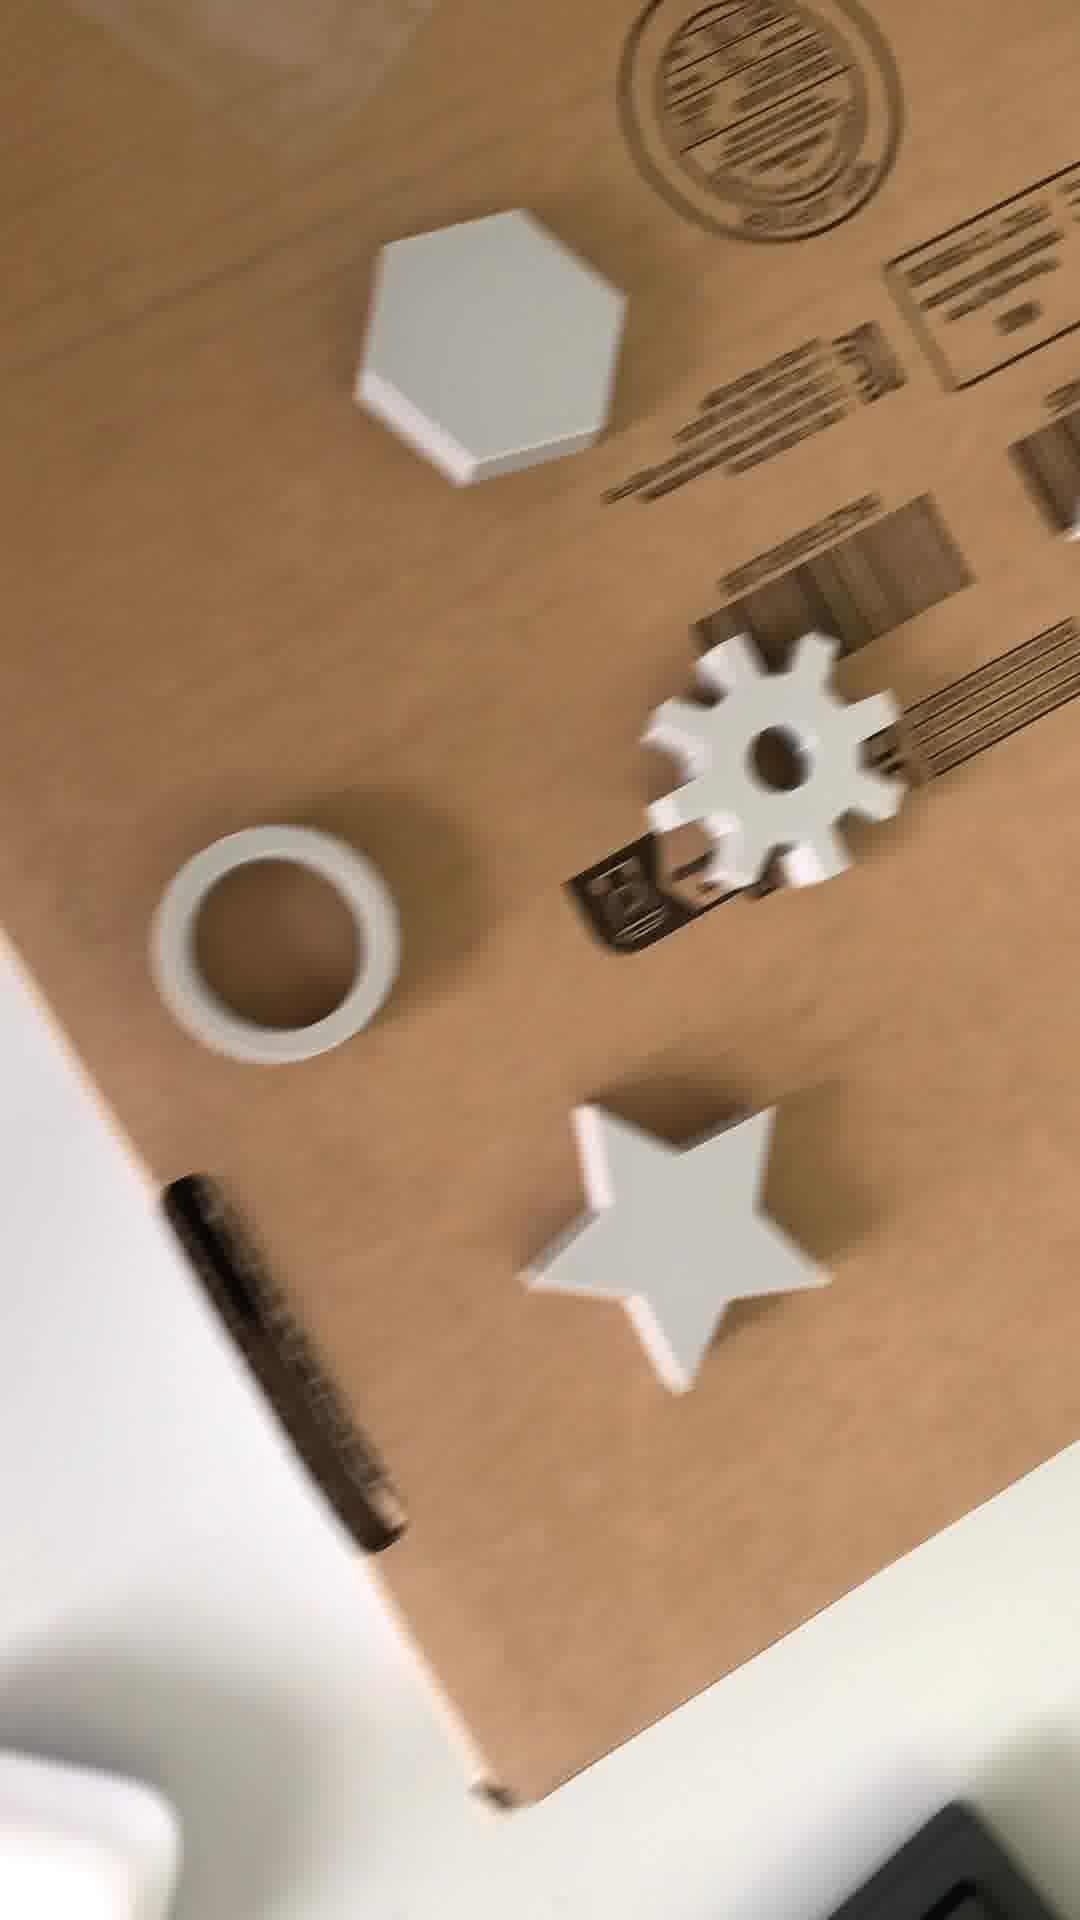Gray gear: (633, 632, 891, 899)
Gray hexagon: (345, 200, 644, 479)
Gray ring: (156, 824, 398, 1069)
Gray star: (518, 1097, 812, 1404)
